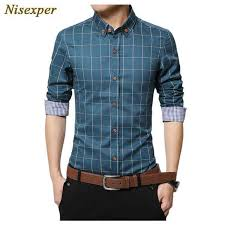squared: (46, 12, 188, 176)
